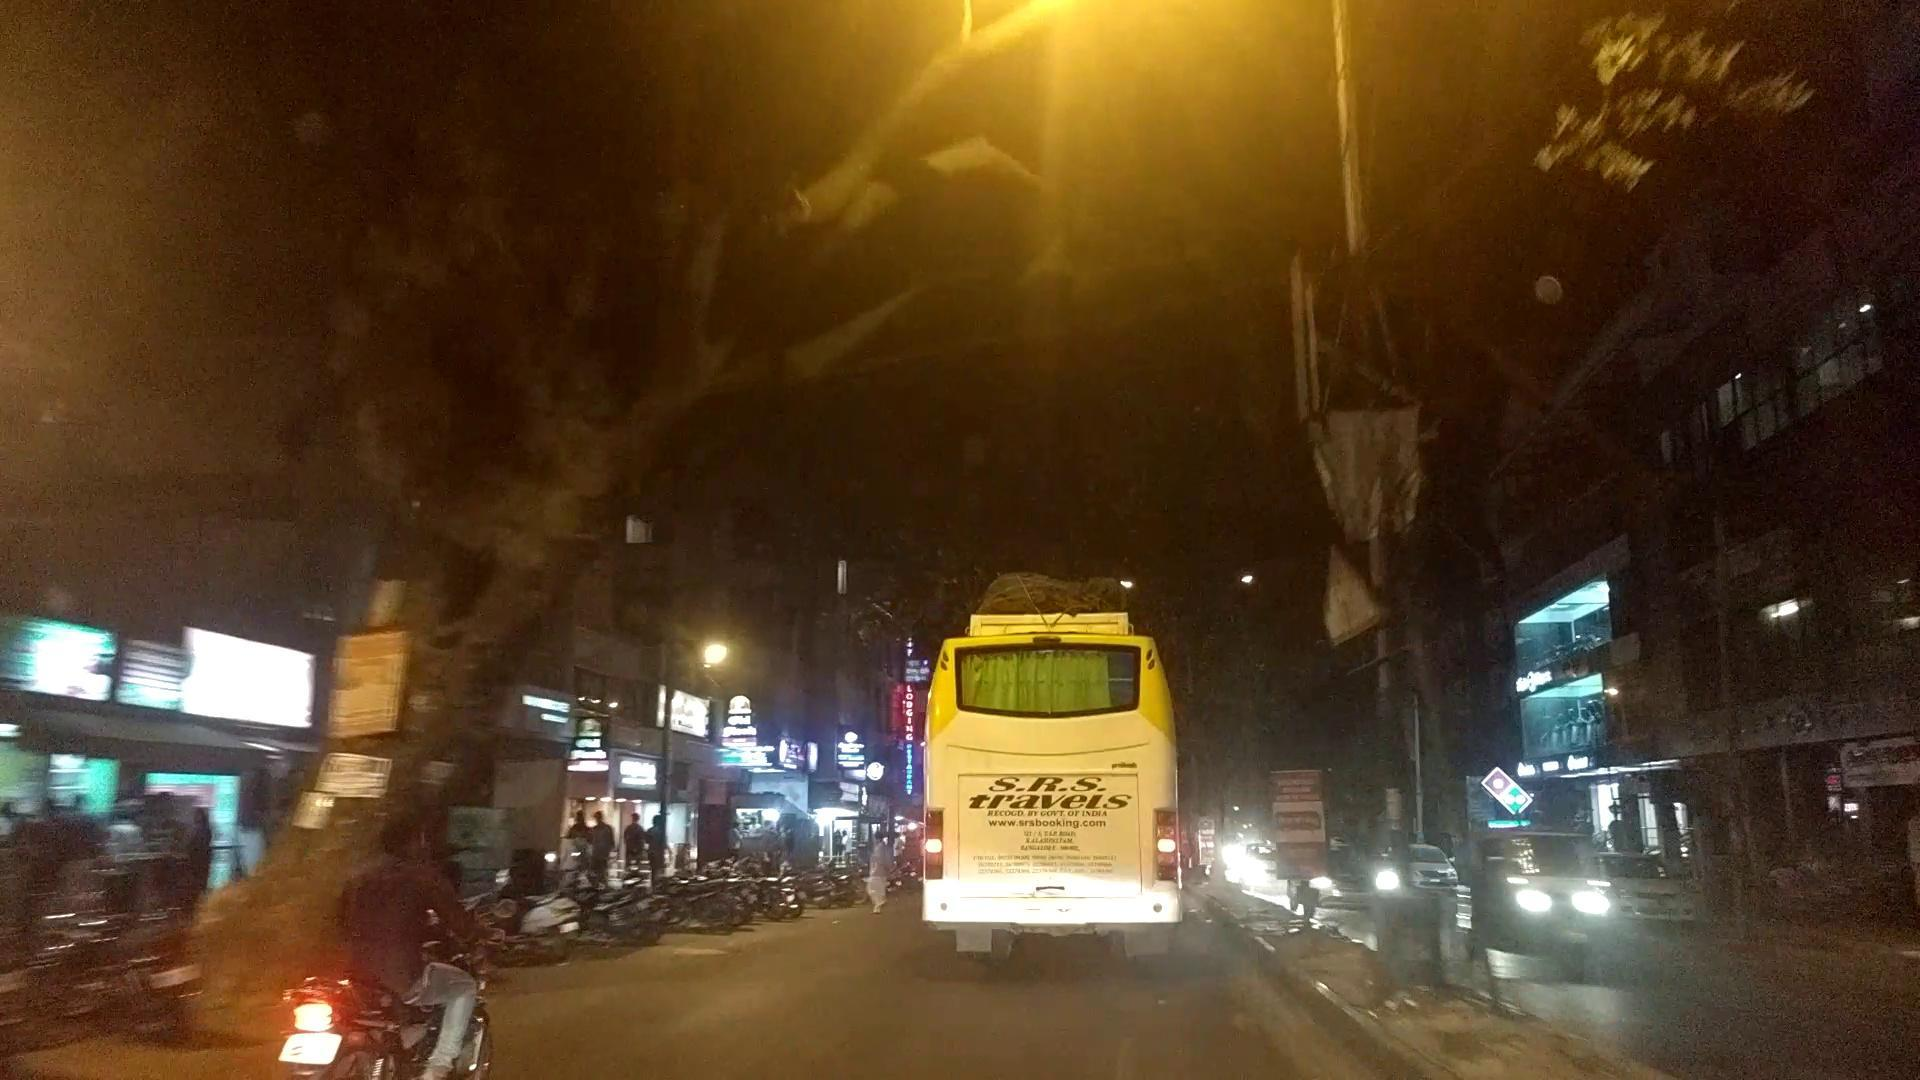on: (899, 0, 1519, 274)
